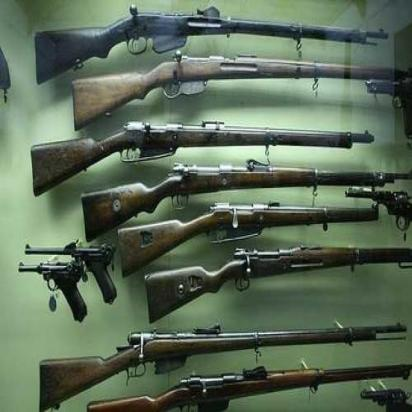Gun: (38, 318, 412, 411), (33, 0, 391, 89), (29, 114, 378, 200), (23, 239, 119, 306), (16, 258, 90, 326)
